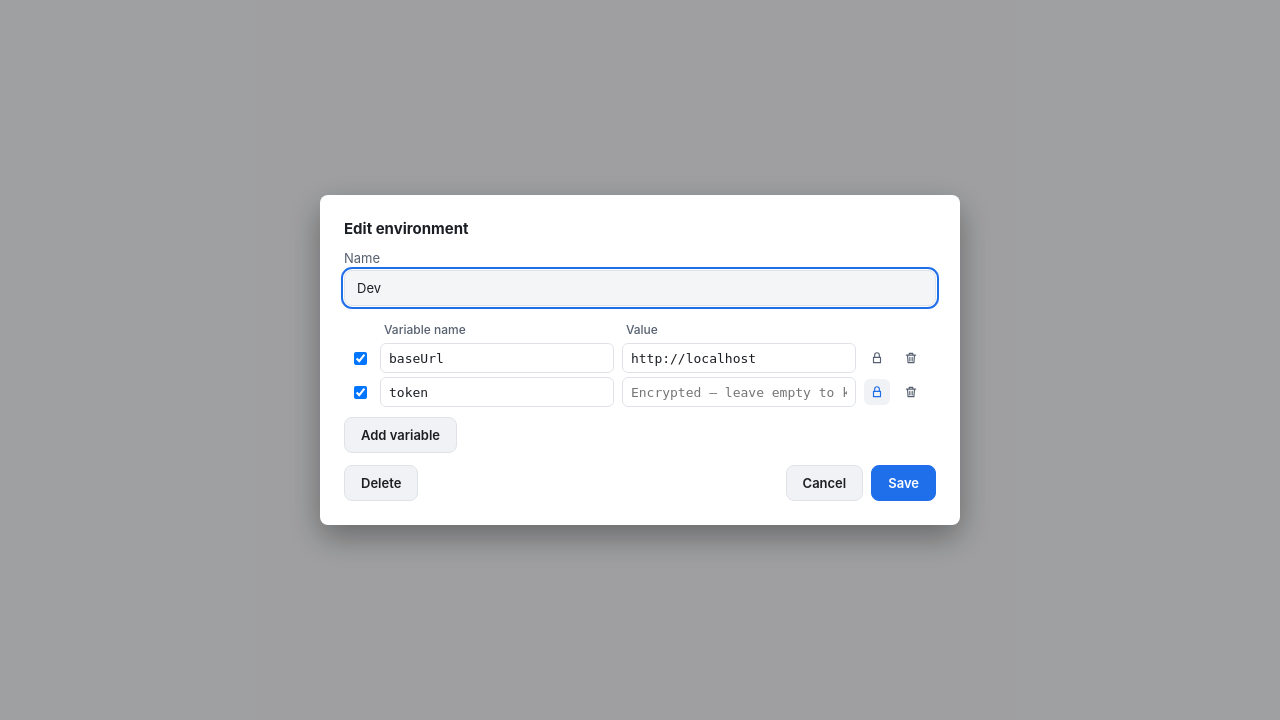
Scenario: EnvironmentEditor › masks secret values and marks variables as secret
This screenshot has width=1280, height=720.
Check: the checkbox named "Secret (stored encrypted)" is checked, box x1=864 y1=379 x2=890 y2=405
Step 1. Click the checkbox named "Secret (stored encrypted)" → (877, 358), box x1=870 y1=351 x2=884 y2=365
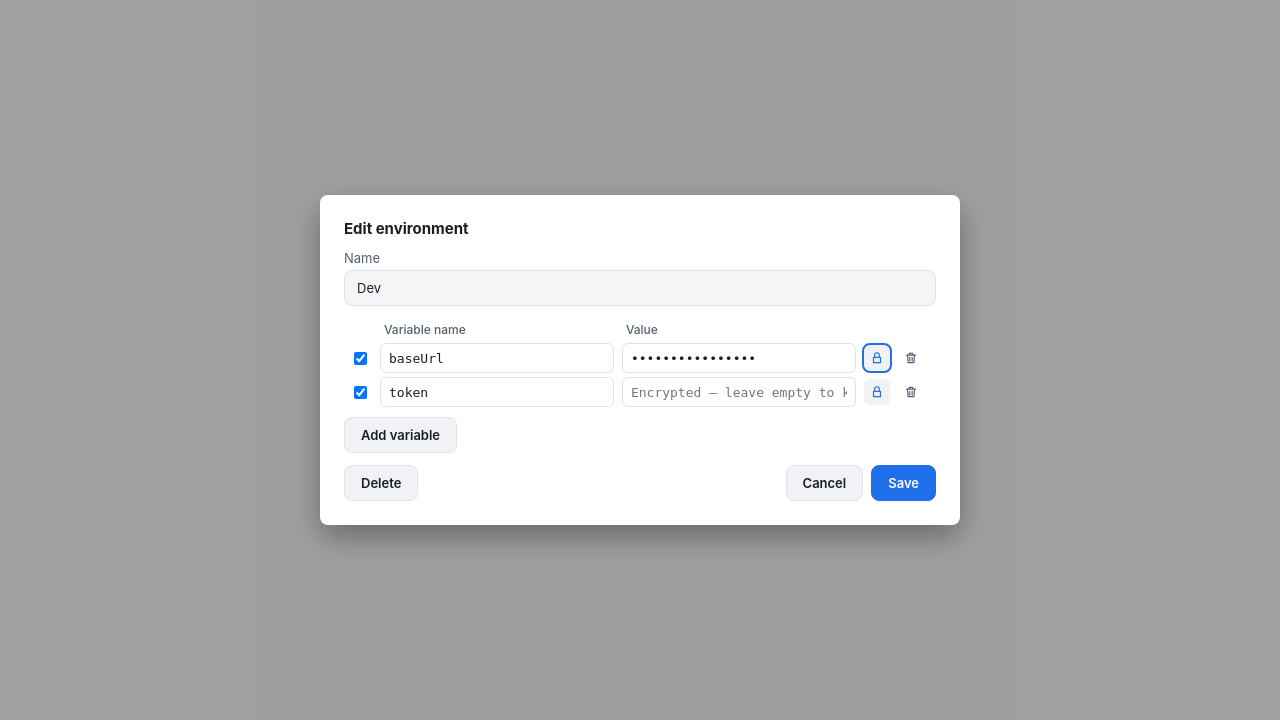
Check: the password field named "Value" hides its text, box x1=622 y1=343 x2=856 y2=373
